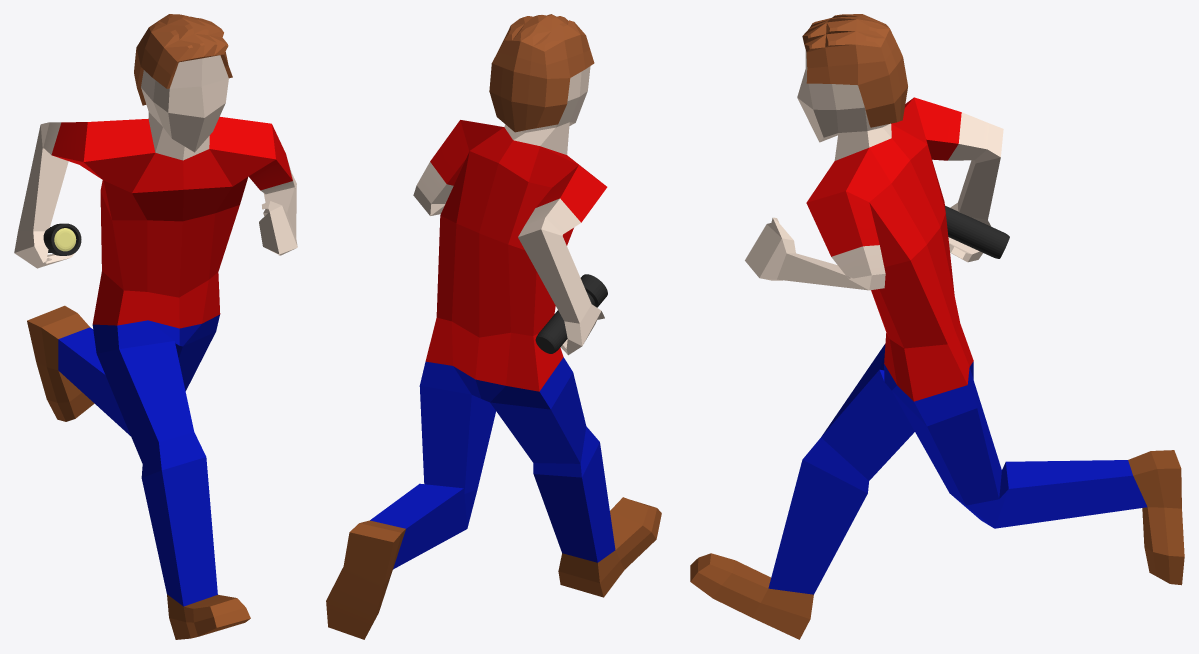
File: Human_running_18.fbx
The picture shows the model from 3 angles, left to right: view 1: azimuth 30°, elevation 25°; view 2: azimuth 150°, elevation 25°; view 3: azimuth 270°, elevation 25°; orthographic projection. The views are drawn at different scales.
Parts seen in each view (by area): view 1: Person.004, Flashlight; view 2: Person.004, Flashlight; view 3: Person.004, Flashlight.
Part boxes in pixels (x1,y1,x2,y2): Person.004: (14,14,297,639); Flashlight: (43,223,81,255); Person.004: (326,14,661,639); Flashlight: (535,274,607,353); Person.004: (690,14,1184,639); Flashlight: (945,205,1009,258).
Bounding box in the file's own units: 0.6004 × 1.5 × 1.08.
